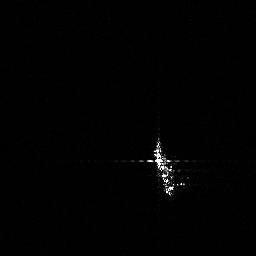ship: (150, 135, 183, 199)
